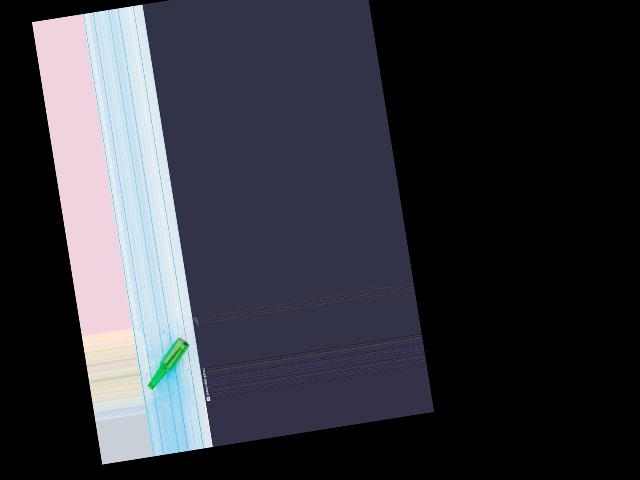beer: (141, 335, 195, 390)
